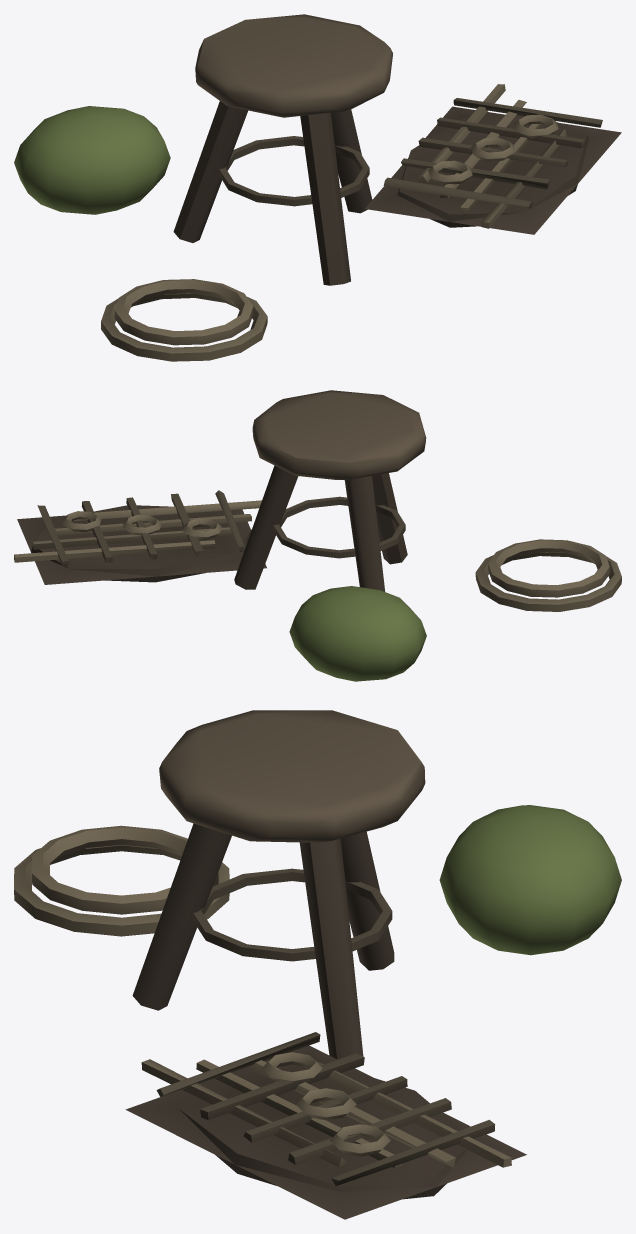
The model's file is mender_stool_b_lod1.glb.
3 renders of one model, top to bottom at view 1: azimuth 30°, elevation 25°; view 2: azimuth 150°, elevation 25°; view 3: azimuth 270°, elevation 25°, orthographic. The views are drawn at different scales.
Parts seen in each view (by area): view 1: Surface.001; view 2: Surface.001; view 3: Surface.001.
Part boxes in pixels (bbox=[...]): Surface.001: bbox=[14, 14, 621, 361]; Surface.001: bbox=[14, 390, 621, 681]; Surface.001: bbox=[14, 710, 621, 1219].
Bounding box in the file's own units: 2.66 × 0.8267 × 1.78.
